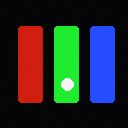2 circle: (61, 78, 73, 90)
